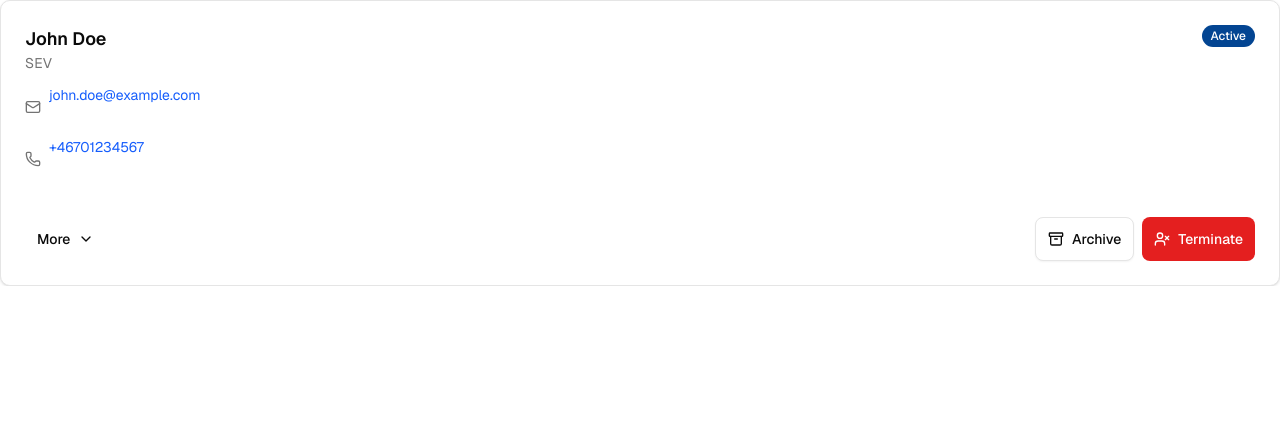
Test: EmployeeCard - Field Visibility and Permissions › AC2: Field Visibility and Permissions Tests › should not render hidden fields in DOM
Click the button with aria-label "Expand details": (66, 239) [25,217,106,261]
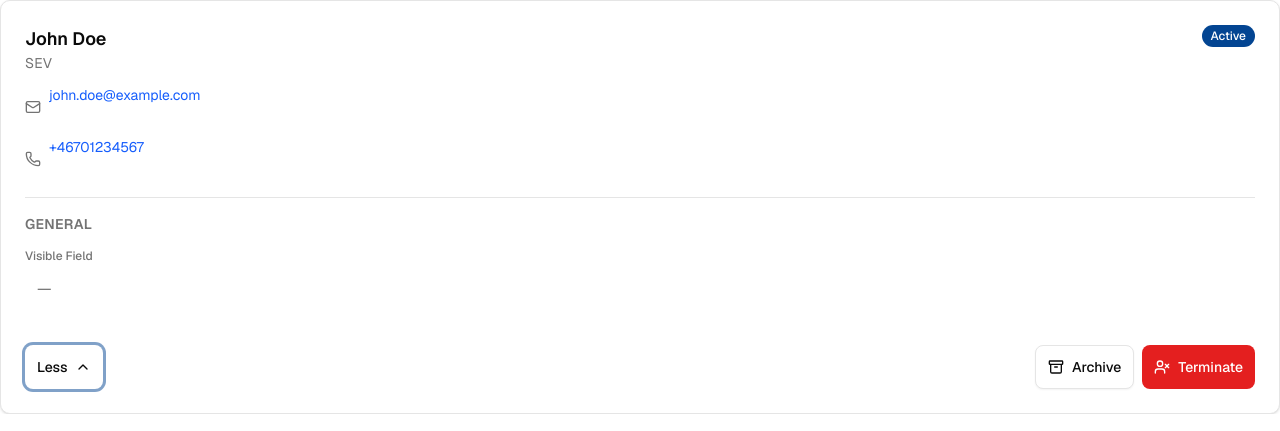
Now the text "Visible Field" is shown, box [25,248,93,264]
